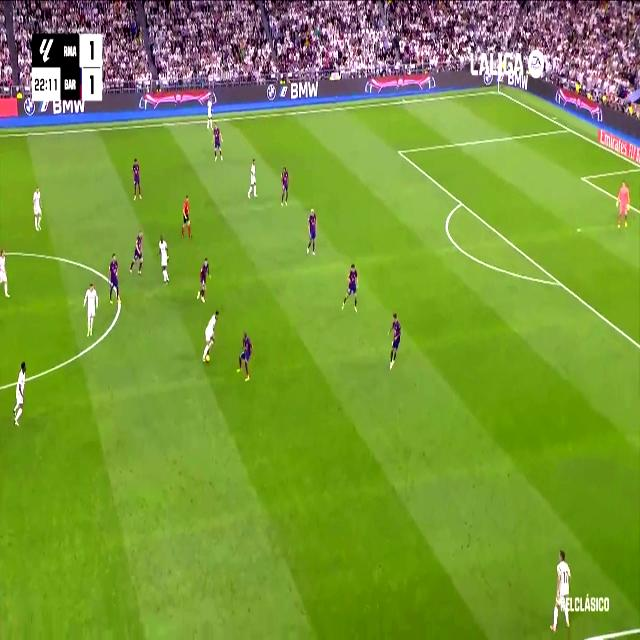bigarea_top_inner: (396, 144, 402, 158)
bigarea_top_outter: (565, 122, 573, 136)
bottom_arc_area_intersection: (554, 272, 564, 292)
corner: (494, 86, 502, 96)
smallarea_top_inner: (579, 170, 587, 185)
top_arc_area_intersection: (457, 194, 465, 210)
